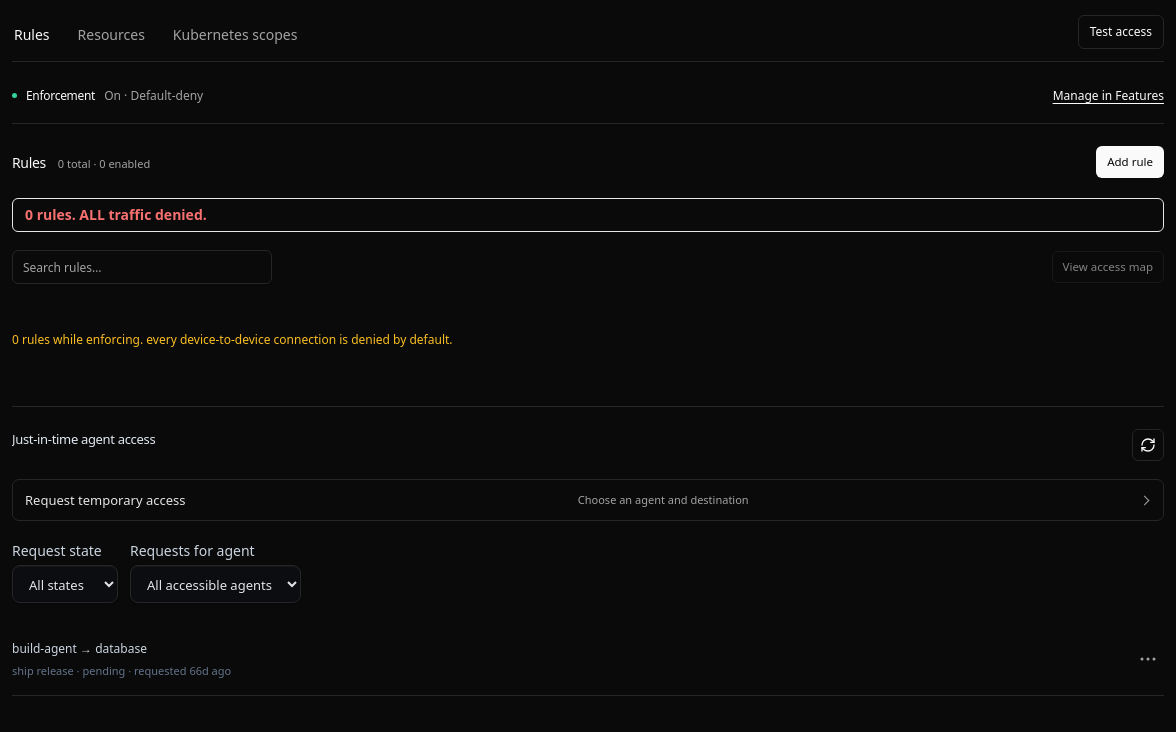
it: released F10 JIT agent access workflow › allows admins to cancel their own pending request
Click the button named "Request actions for": {"x": 1148, "y": 659} x1=1132 y1=643 x2=1164 y2=675
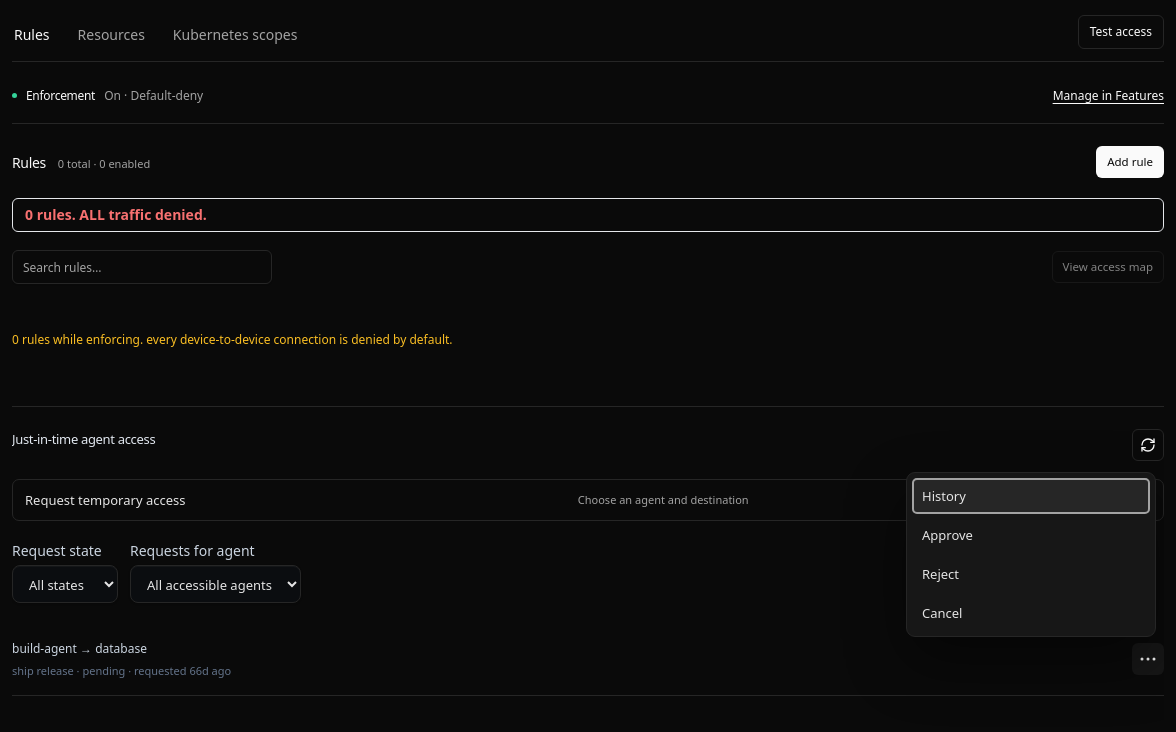
Click the menu item "Cancel": {"x": 1031, "y": 613} x1=912 y1=595 x2=1150 y2=631
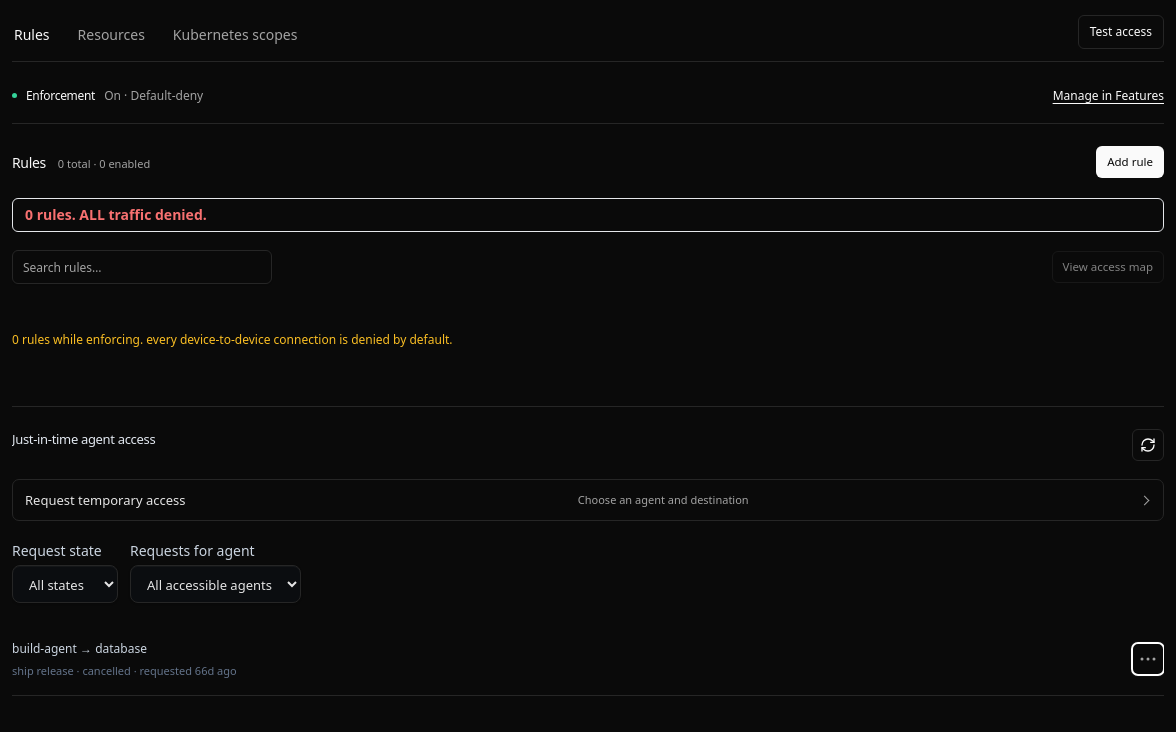
Expected: the text "ship release · cancelled · requested 66d ago" is shown, x1=12 y1=663 x2=237 y2=679
